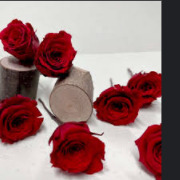RedRose: (52, 122, 106, 173), (35, 29, 81, 81), (92, 84, 140, 124), (0, 97, 42, 142), (2, 18, 38, 62), (142, 128, 170, 179), (127, 72, 164, 107)
